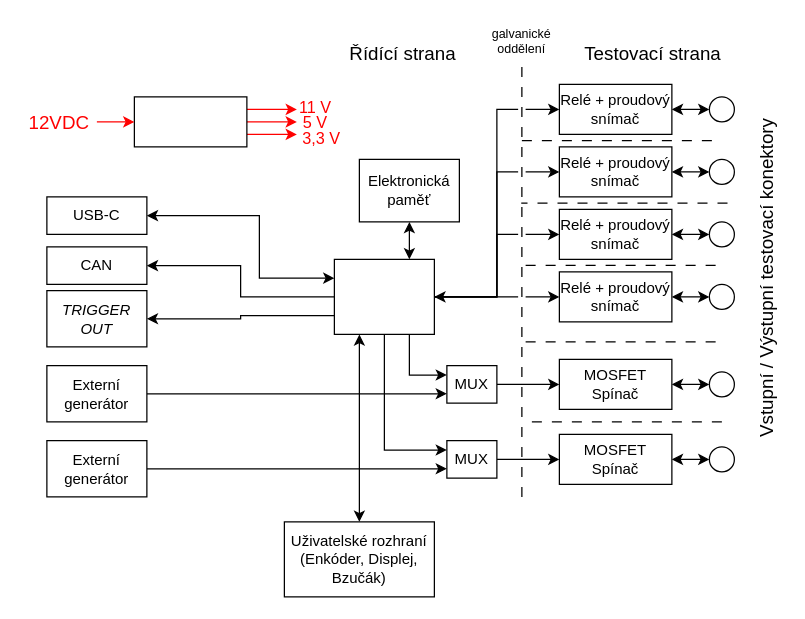
This 805x619 diagram has some shape labels left out. Here are the shapes that lost their labels. From the top down, the box of each, then its label:
(133, 96, 247, 147): Napájecí část
(333, 258, 434, 334): MCU
